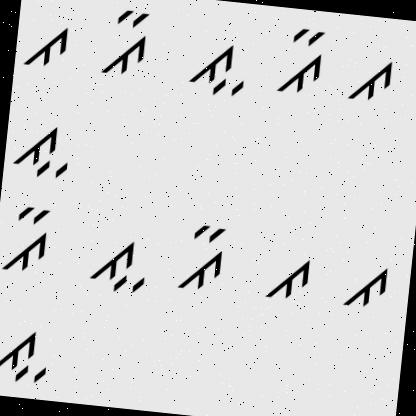ka: (253, 246, 315, 316), (20, 13, 74, 80), (342, 48, 396, 113), (340, 255, 396, 314)
kah: (178, 32, 252, 104), (81, 228, 151, 299), (6, 112, 74, 185), (0, 321, 57, 386)
kan: (88, 4, 160, 81), (0, 196, 60, 280), (172, 217, 234, 296), (269, 24, 332, 100)
